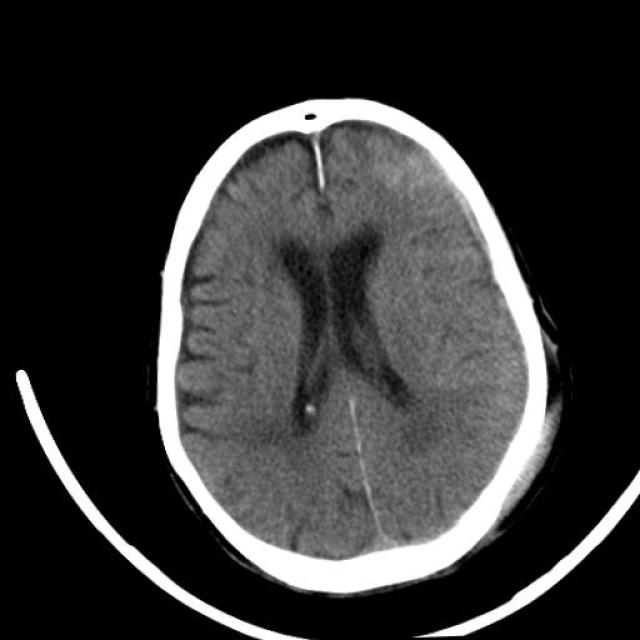Subdural: (383, 118, 522, 278)
